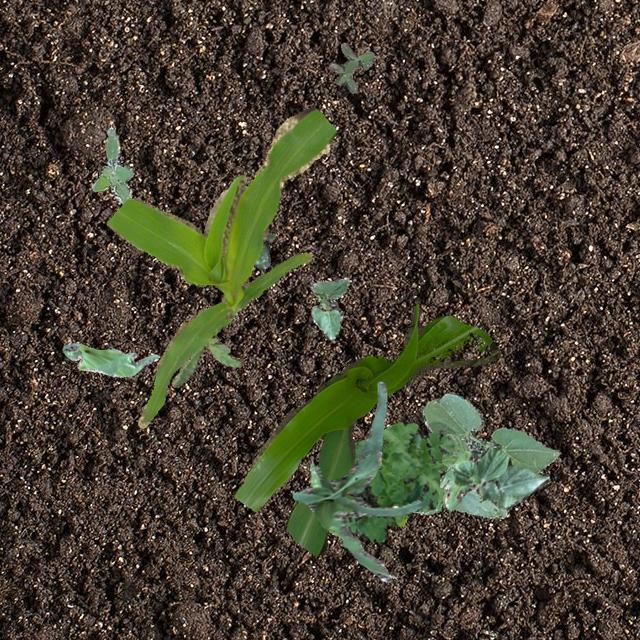crop: (106, 106, 336, 428), (232, 302, 498, 556), (292, 380, 426, 582), (414, 392, 560, 518), (440, 446, 548, 509), (61, 342, 158, 377), (310, 276, 348, 338)
weed: (344, 420, 454, 542), (170, 334, 242, 386), (90, 125, 132, 202), (328, 42, 373, 92), (252, 230, 274, 268)
